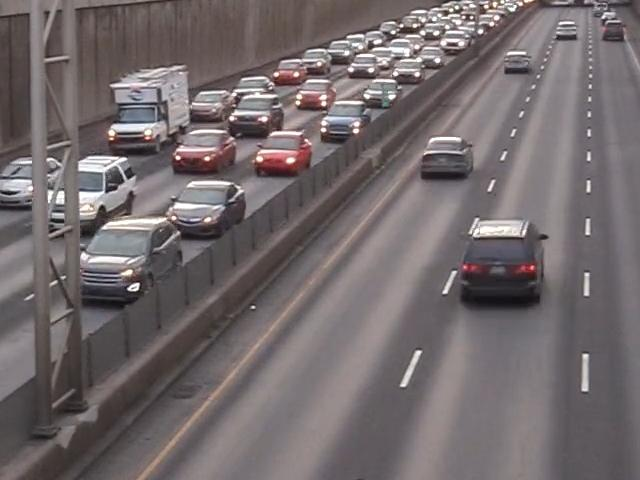car: (449, 219, 558, 311), (75, 222, 178, 308), (47, 158, 138, 234), (165, 176, 247, 239), (0, 151, 63, 207), (416, 134, 478, 183), (172, 128, 238, 174), (254, 130, 311, 181), (232, 99, 284, 132), (317, 103, 364, 138), (185, 87, 238, 118), (357, 78, 402, 104), (238, 71, 278, 99), (294, 80, 332, 104), (387, 57, 427, 79), (347, 54, 381, 78), (302, 47, 336, 68), (415, 44, 446, 66), (500, 53, 532, 74), (270, 58, 301, 79), (438, 31, 471, 50), (383, 36, 414, 56), (325, 38, 353, 58), (345, 32, 370, 49), (558, 20, 578, 39), (362, 30, 387, 45), (604, 22, 625, 39), (369, 47, 390, 61), (399, 18, 420, 31), (422, 22, 439, 38), (379, 22, 398, 32)
truck: (106, 64, 190, 152)
